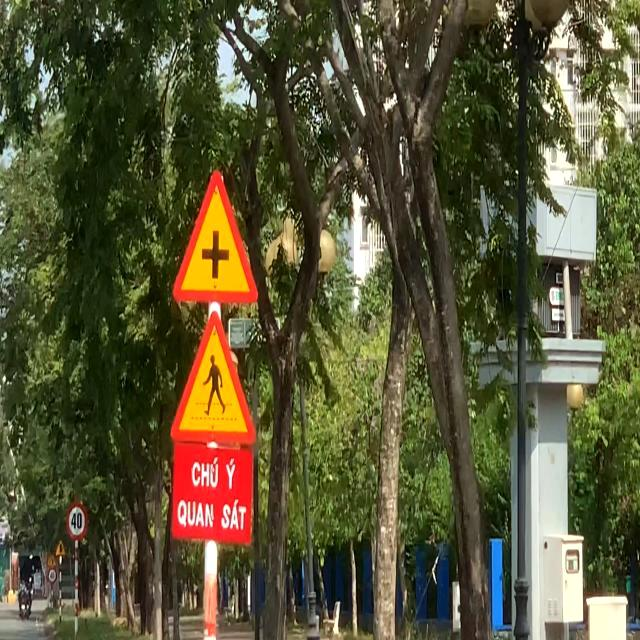Giao nhau voi duong khong uu tien ben phai: (54, 538, 68, 560)
Nguoi di bo cat ngang: (168, 306, 260, 448)
Toc do toi da cho phep: (64, 501, 91, 542)
